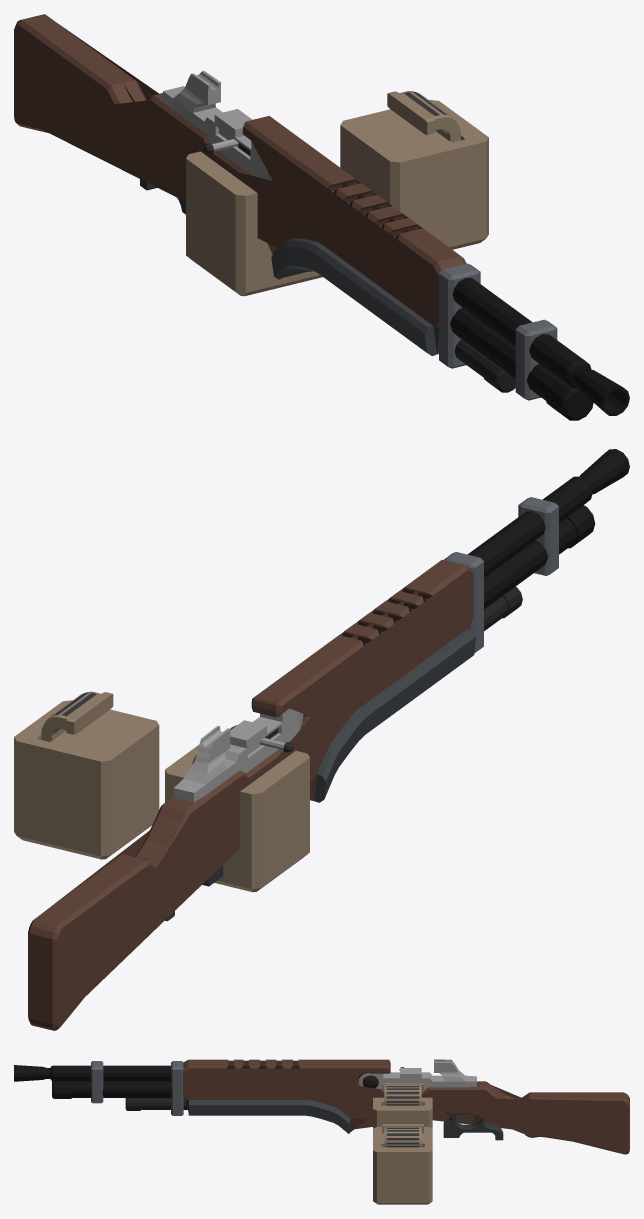
File: MACHIN GUNS.fbx
3 views of the same model, one above another, from view 1: azimuth 30°, elevation 25°; view 2: azimuth 150°, elevation 25°; view 3: azimuth 270°, elevation 25° (orthographic). The views are drawn at different scales.
Visible parts, largest first — view 1: Cube.014, Cube.012; view 2: Cube.014, Cube.012; view 3: Cube.014, Cube.012.
Part boxes in pixels (x1,y1,x2,y2): Cube.014: (14,14,629,420); Cube.012: (340,91,488,249); Cube.014: (28,449,629,1030); Cube.012: (14,691,159,859); Cube.014: (14,1059,629,1154); Cube.012: (373,1124,432,1204).
Size of the model in its own units: 317 by 202 by 1247.
Materials: 1 (1 with a texture image).
